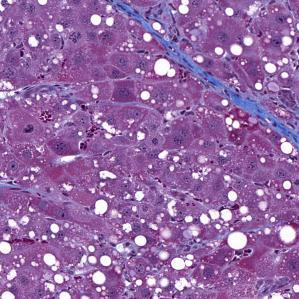fibrosis: (175, 55, 269, 115)
